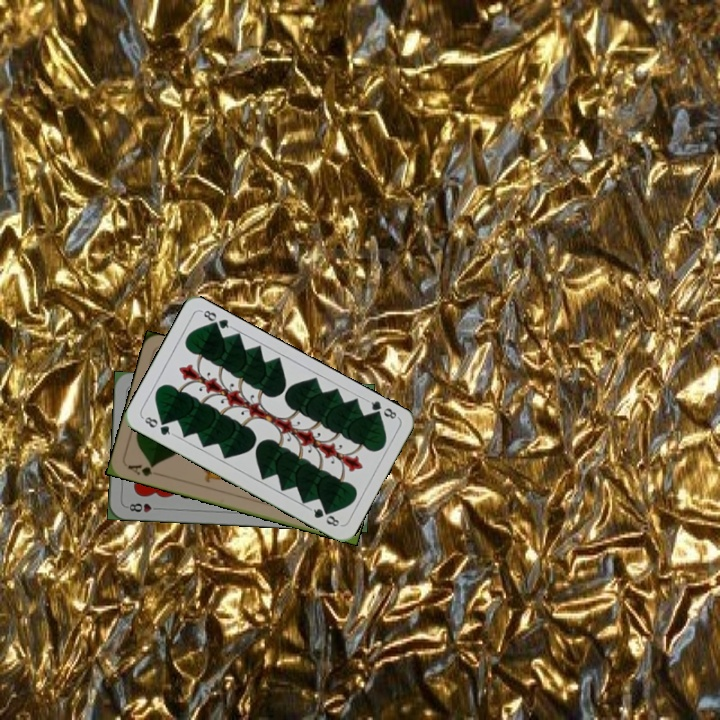G8: (363, 396, 401, 422), (139, 413, 176, 438)
GA: (124, 460, 156, 479)
H8: (123, 499, 163, 515)
